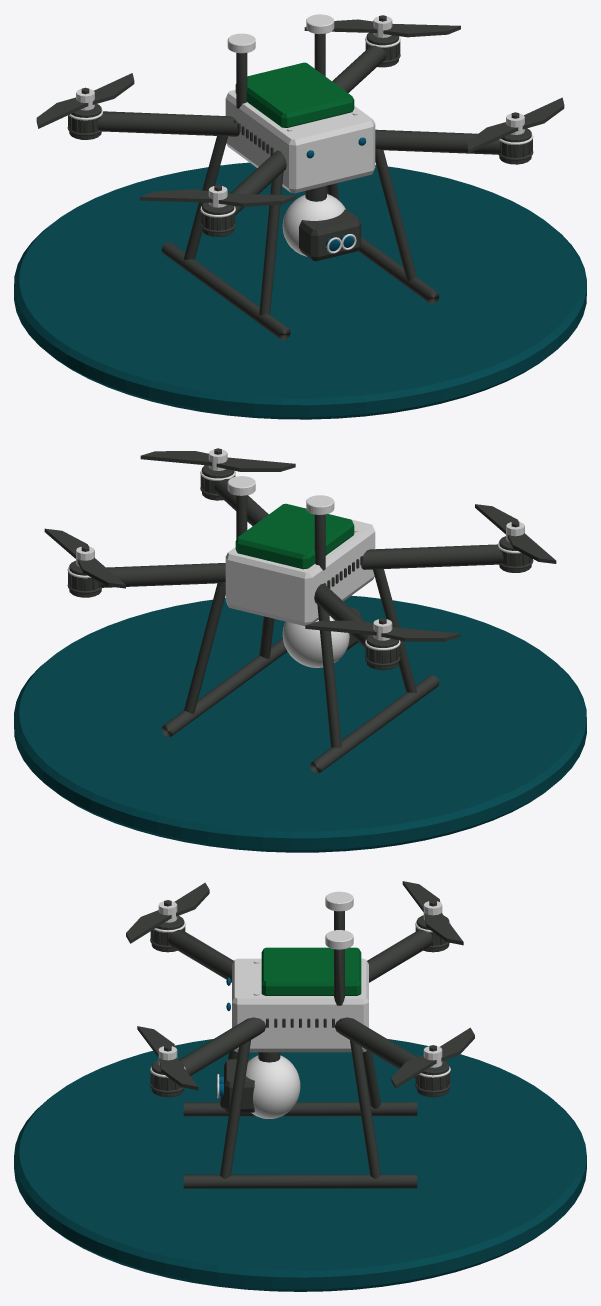
Rendered from dji-matrice-350-rtk.glb.
3 views of the same model, one above another, from view 1: azimuth 30°, elevation 25°; view 2: azimuth 150°, elevation 25°; view 3: azimuth 270°, elevation 25° (orthographic).
Visible parts, largest first — view 1: pedestal, body; view 2: pedestal, body; view 3: pedestal, body.
Part boxes in pixels (<box>): pedestal: <box>14,162,586,419</box>; body: <box>36,14,564,340</box>; pedestal: <box>14,595,586,852</box>; body: <box>44,448,556,773</box>; pedestal: <box>14,1039,586,1291</box>; body: <box>126,881,474,1188</box>.
Size of the model in its own units: 4.4 by 2.17 by 4.4.
